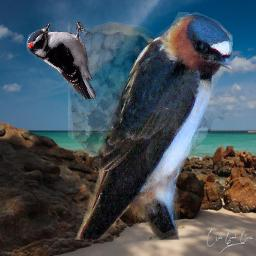Swallow: (68, 12, 233, 240)
Woodpecker: (26, 22, 96, 99)
